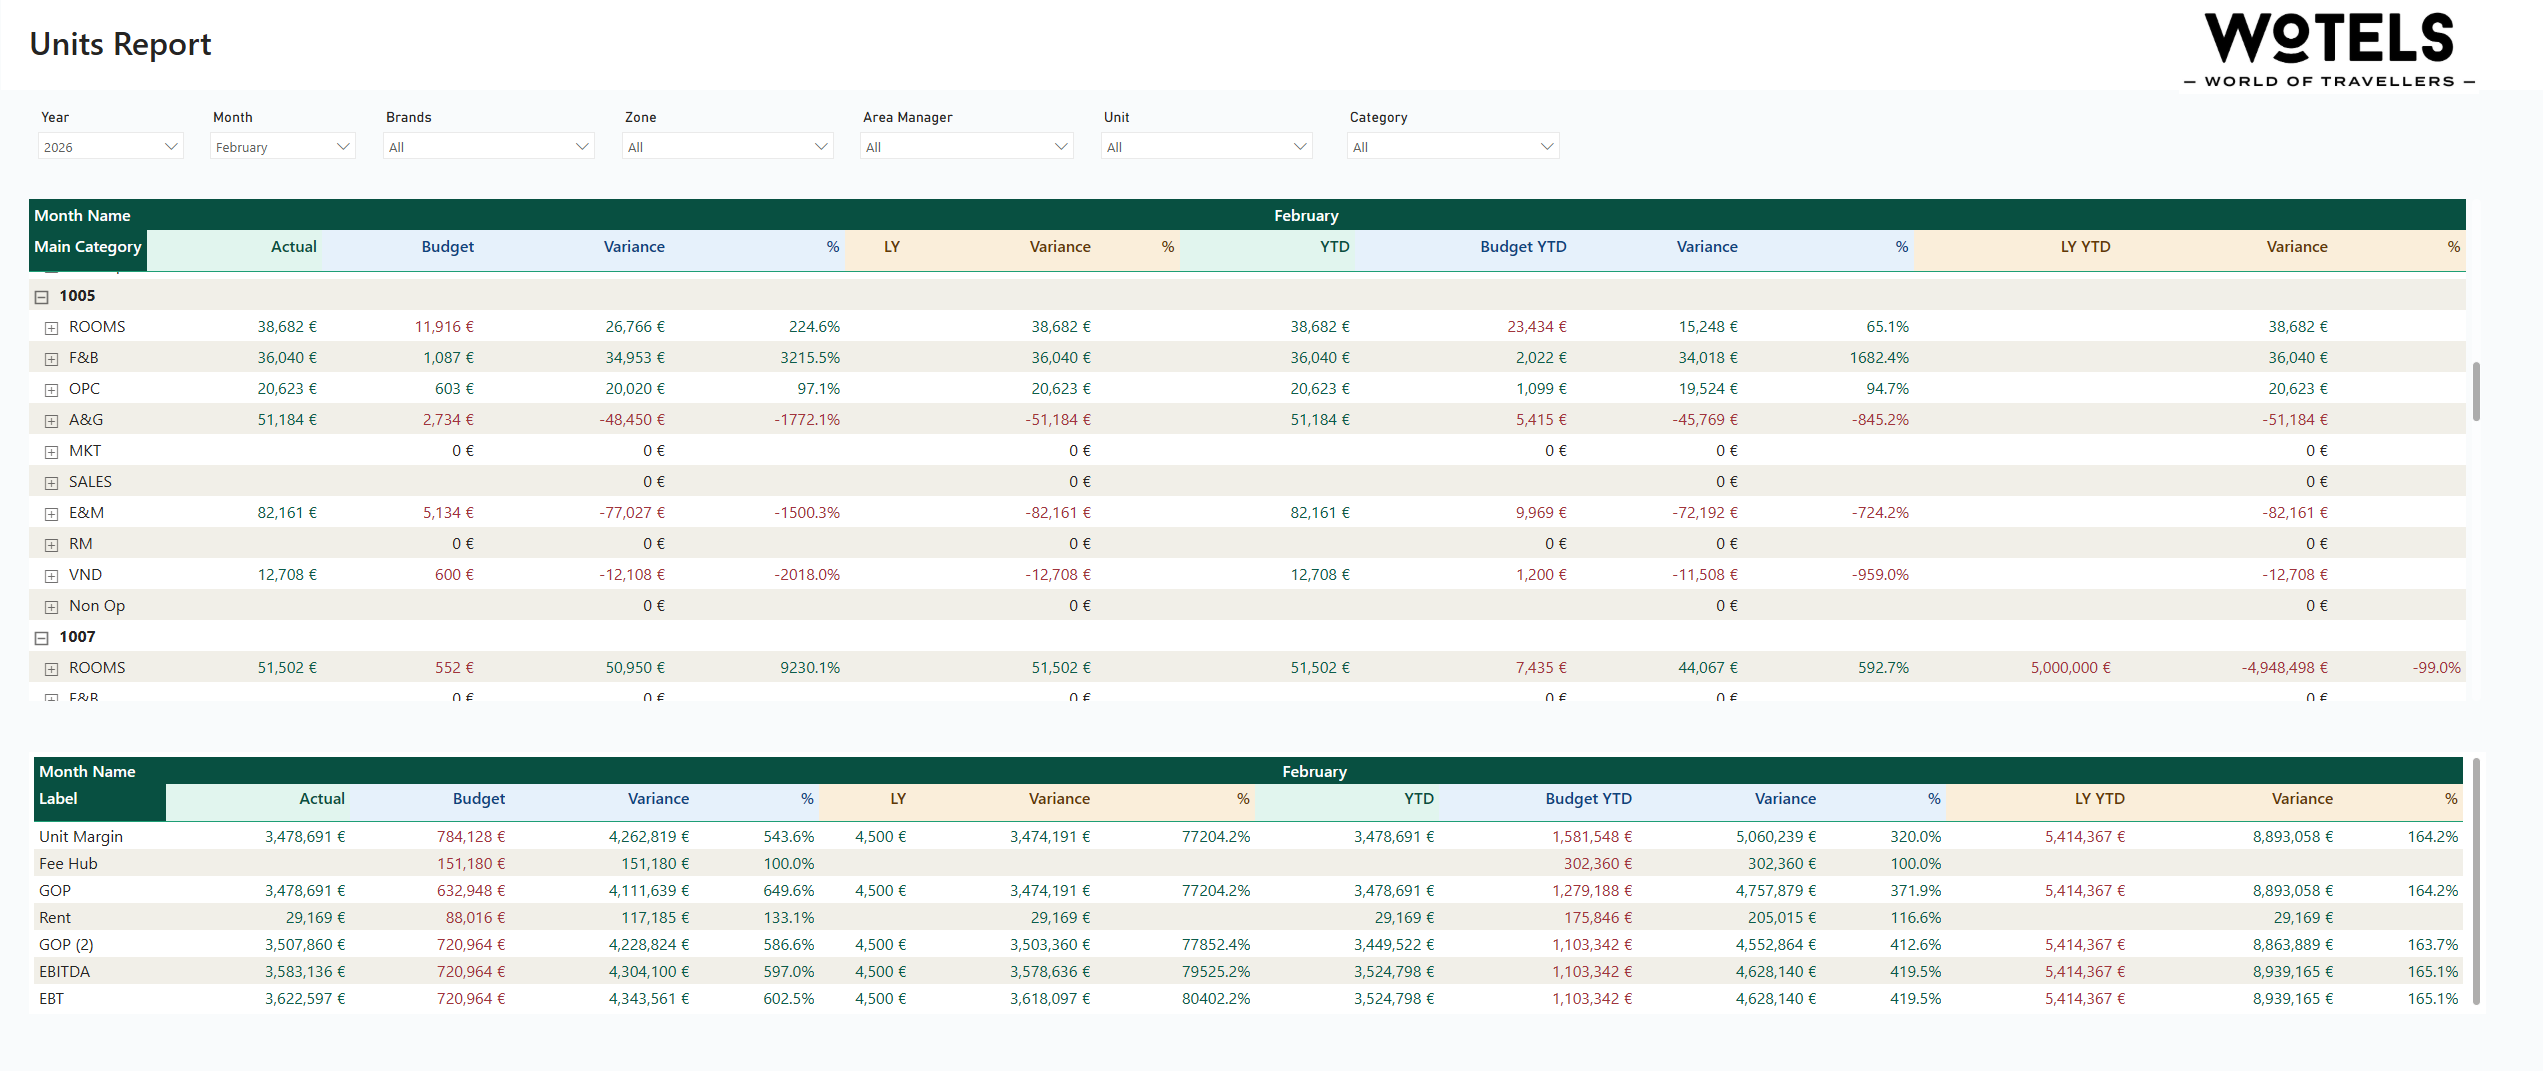

Layout of this report page (visuals, bound fields, positions):
{"tool":"powerbi","page":{"name":"Units Report","canvas":[2550,1080],"ordinal":2},"visuals":[{"type":"group","id":"g1","title":"Background Shapes","box":[3,0,2797.9,100],"z":0},{"type":"shape","box":[3,0,2797.9,95.9],"z":1000,"group":"g1"},{"type":"pivotTable","fields":{"Columns":["DateTable.Month Name"],"Rows":["cost_centers.Main Category","Category Sort Table.Category","cost_centers.Sub Category (1)","cost_centers.Sub Category (2)","cost_centers.Sub Category (3)","cost_centers.Sub Category (4)","cost_centers.Cost Center Description"],"Values":["KPIs.Actual P&L","KPI_Finance.Budget P&L","KPI_Finance.Budget Variance","KPI_Finance.Budget Variance %","KPI_Finance.Actual P&L LY","KPI_Finance.LY P&L Variance","KPI_Finance.Unit LY Variance %","KPIs.Actual P&L YTD","KPI_Finance.Budget YTD","KPI_Finance.Budget Variance YTD","KPI_Finance.Budget Variance % YTD","KPI_Finance.LY YTD"]},"box":[25.6,200,2462.2,512.2],"z":1000},{"type":"image","box":[2174.2,3.3,313.3,96.7],"z":2000,"group":"g1"},{"type":"slicer","fields":{"Values":["DateTable.Year"]},"box":[29.6,109.7,166,76.8],"z":2000},{"type":"textbox","box":[26.4,20.7,357.5,62.2],"z":3000,"group":"g1"},{"type":"slicer","fields":{"Values":["units.CODE ID"]},"box":[1093,109.7,232.3,76.8],"z":3000},{"type":"slicer","fields":{"Values":["Category Sort Table.Category"]},"box":[1338.6,110,233.6,76.4],"z":4000},{"type":"slicer","fields":{"Values":["units.Brands"]},"box":[374.7,109.7,232.3,76.8],"z":5000},{"type":"slicer","fields":{"Values":["units.ZONE"]},"box":[613.5,109.7,232.3,76.8],"z":6000},{"type":"slicer","fields":{"Values":["units.Area Manager"]},"box":[852.3,109.7,234.1,76.8],"z":7000},{"type":"slicer","fields":{"Values":["DateTable.Month Name"]},"box":[202.2,109.7,166,76.8],"z":8000},{"type":"pivotTable","fields":{"Columns":["DateTable.Month Name"],"Rows":["Footer_Table.Label"],"Values":["Footer_Table.Footer_Value","Footer_Table.Budget F","Footer_Table.Budget Variance F","Footer_Table.Budget Variance F %","Footer_Table.LY","Footer_Table.LY Variance F","Footer_Table.LY Variance F %","Footer_Table.YTD","Footer_Table.Budget YTD F","Footer_Table.Budget Variance YTD F","Footer_Table.Budget Variance YTD F %","Footer_Table.LY YTD F"]},"box":[31.1,757.8,2456.7,262.2],"z":9000}]}

Visuals, with their boxes in screenshot pixels (x1, y1, x2, y2), scaled from the page's 2550x1080 canvas onto the 2543x1071 screenshot:
"Background Shapes" group: {"left": 3, "top": 0, "right": 2542, "bottom": 99}
shape: {"left": 3, "top": 0, "right": 2542, "bottom": 95}
pivotTable - DateTable.Month Name x cost_centers.Main Category: {"left": 26, "top": 198, "right": 2481, "bottom": 706}
image: {"left": 2168, "top": 3, "right": 2481, "bottom": 99}
slicer - DateTable.Year: {"left": 30, "top": 109, "right": 195, "bottom": 185}
textbox: {"left": 26, "top": 21, "right": 383, "bottom": 82}
slicer - units.CODE ID: {"left": 1090, "top": 109, "right": 1322, "bottom": 185}
slicer - Category Sort Table.Category: {"left": 1335, "top": 109, "right": 1568, "bottom": 185}
slicer - units.Brands: {"left": 374, "top": 109, "right": 605, "bottom": 185}
slicer - units.ZONE: {"left": 612, "top": 109, "right": 843, "bottom": 185}
slicer - units.Area Manager: {"left": 850, "top": 109, "right": 1083, "bottom": 185}
slicer - DateTable.Month Name: {"left": 202, "top": 109, "right": 367, "bottom": 185}
pivotTable - DateTable.Month Name x Footer_Table.Label: {"left": 31, "top": 751, "right": 2481, "bottom": 1012}
